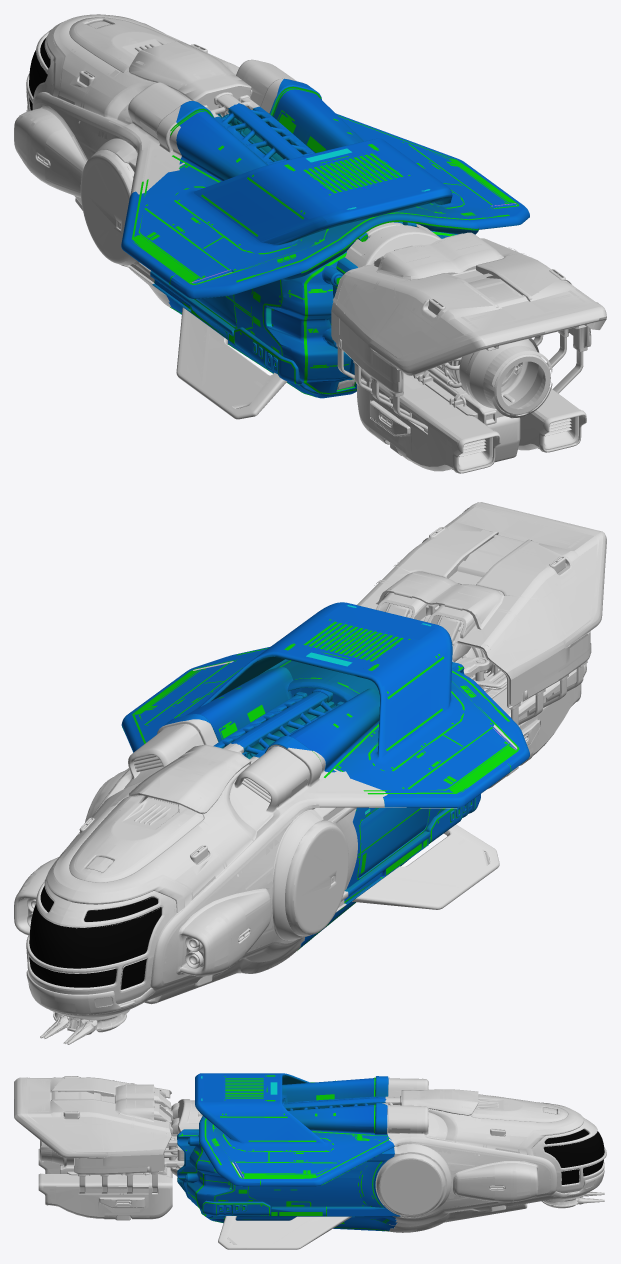
3 views of the same model, one above another, from view 1: azimuth 30°, elevation 25°; view 2: azimuth 150°, elevation 25°; view 3: azimuth 270°, elevation 25° (orthographic). The views are drawn at different scales.
Parts seen in each view (by area): view 1: MISC Hull A_body, MISC Hull A_window; view 2: MISC Hull A_body, MISC Hull A_window; view 3: MISC Hull A_body, MISC Hull A_window.
Boxes of the visible parts, x1,y1,x2,y2 form: MISC Hull A_body: [14, 14, 606, 473]; MISC Hull A_window: [29, 37, 50, 110]; MISC Hull A_body: [14, 502, 606, 1044]; MISC Hull A_window: [29, 886, 161, 989]; MISC Hull A_body: [14, 1073, 606, 1249]; MISC Hull A_window: [543, 1129, 604, 1184].
Bounding box in the file's own units: 34.06 × 20.35 × 85.1.
